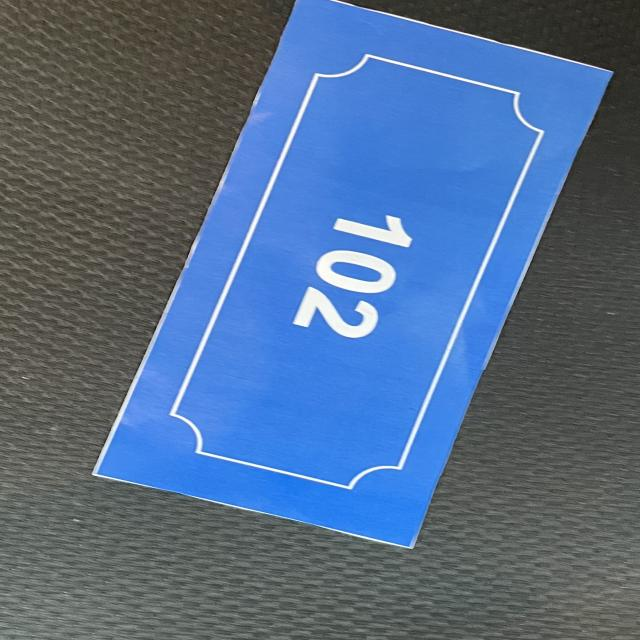Card: (75, 0, 633, 583)
